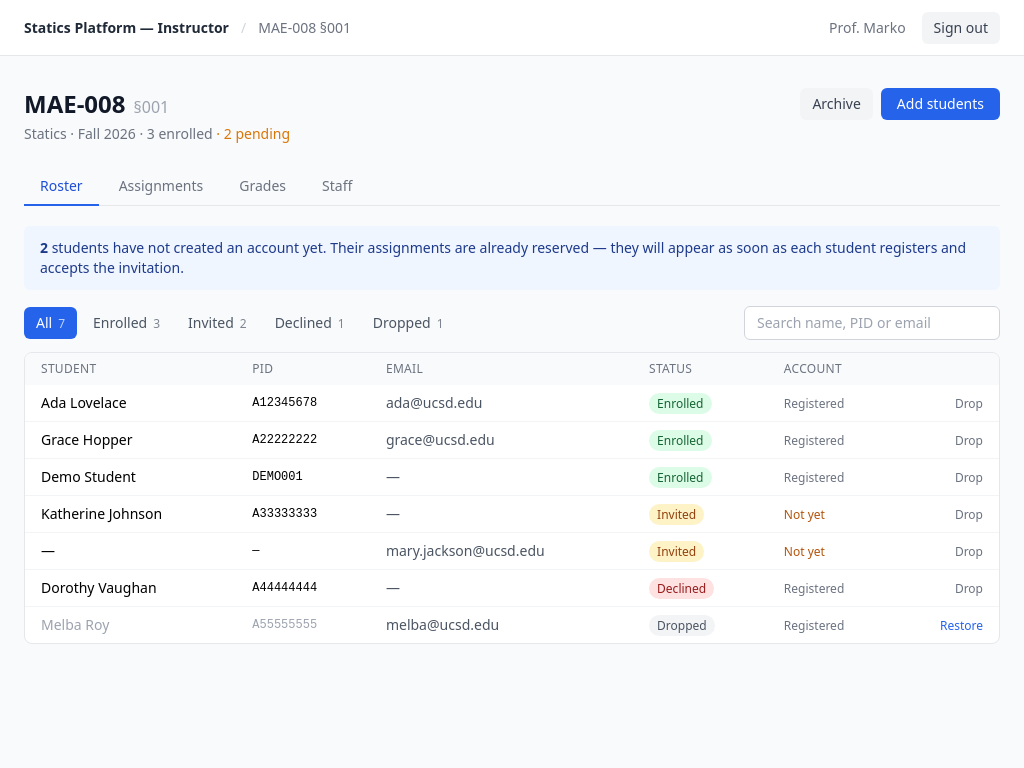
Test: course roster › searches by PID, email and name
In the field named "search roster": (872, 323) [744,306,1000,340], type "grace@ucsd.edu"
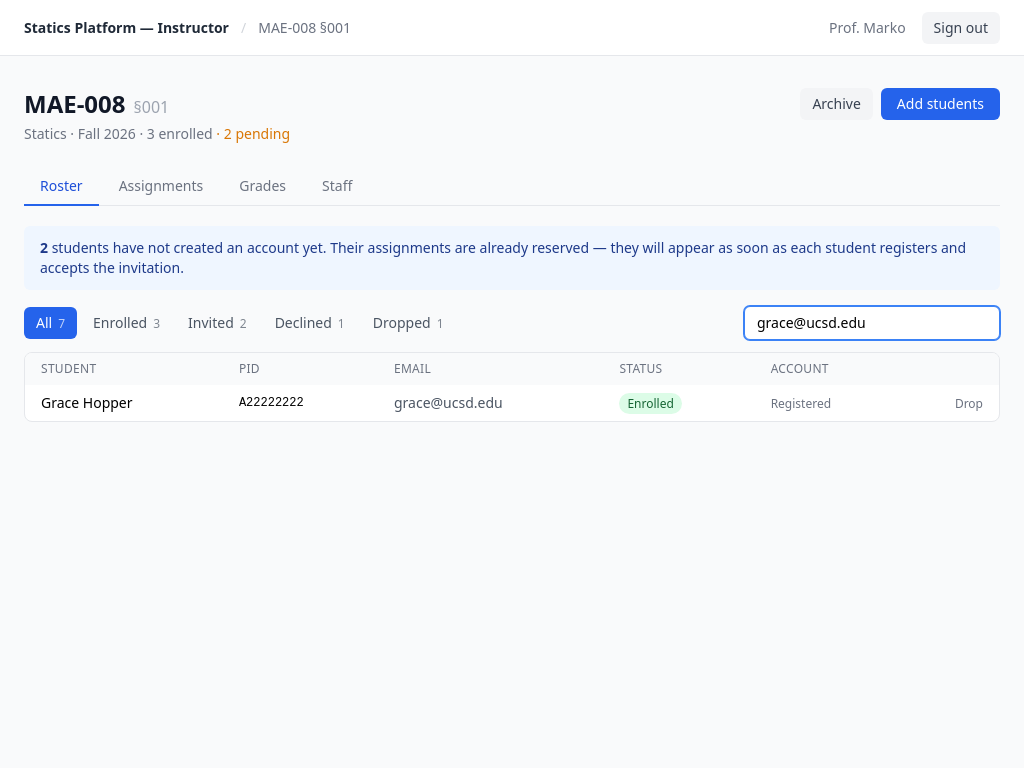
Check: the text "Grace Hopper" is shown, box [25,385,223,421]
Check: the text "Ada Lovelace" is gone
